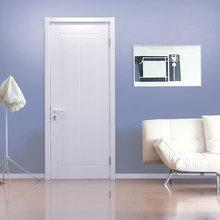door: (49, 22, 109, 179)
